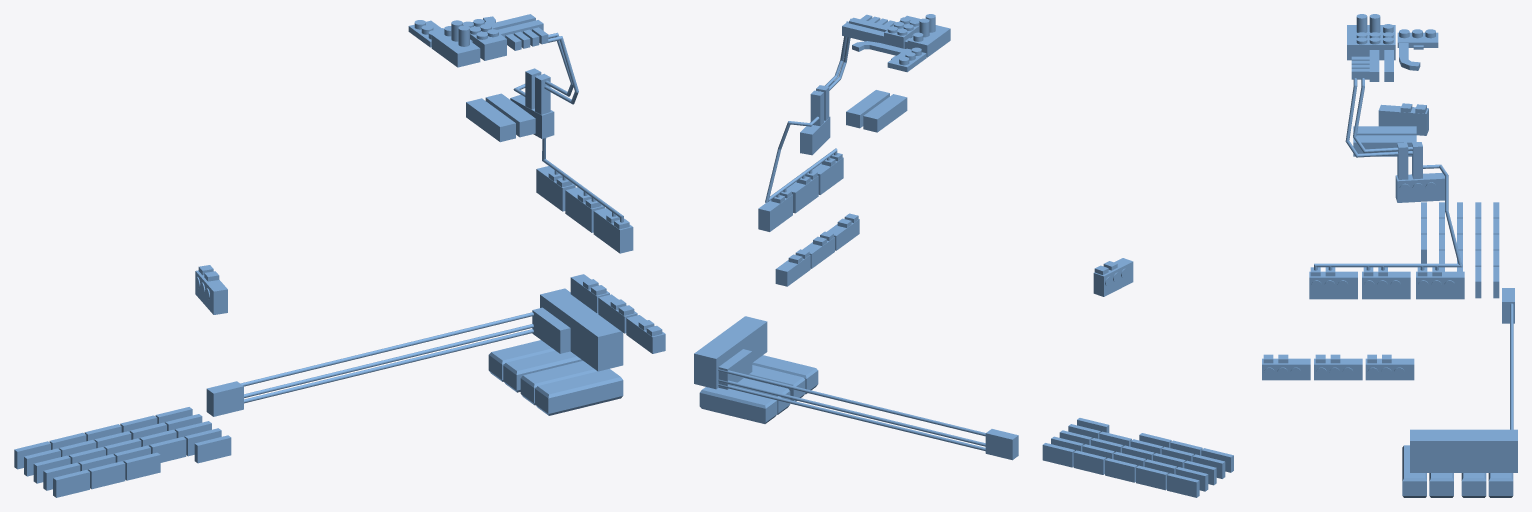
Rendered from 260303_3dmod_exploded-machinary.glb.
3 views of the same model, side by side, from view 1: azimuth 30°, elevation 25°; view 2: azimuth 150°, elevation 25°; view 3: azimuth 270°, elevation 25° (orthographic). The views are drawn at different scales.
Visible parts, largest first — view 1: 04_machinery.001, 04_machinery.002, 04_machinery, 04_machinery.003; view 2: 04_machinery.001, 04_machinery.002, 04_machinery, 04_machinery.003; view 3: 04_machinery.002, 04_machinery.001, 04_machinery, 04_machinery.003.
Boxes of the visible parts, box(x1,y1,x2,y2) form: 04_machinery.001: box(14, 288, 623, 497); 04_machinery.002: box(408, 14, 665, 353); 04_machinery: box(466, 93, 535, 142); 04_machinery.003: box(195, 265, 227, 314); 04_machinery.001: box(694, 316, 1233, 497); 04_machinery.002: box(758, 14, 950, 286); 04_machinery: box(846, 90, 907, 132); 04_machinery.003: box(1093, 258, 1133, 296); 04_machinery.002: box(1262, 14, 1464, 380); 04_machinery.001: box(1402, 202, 1517, 497); 04_machinery: box(1353, 126, 1416, 156); 04_machinery.003: box(1378, 103, 1428, 135).
Bounding box in the file's own units: 9.98 × 7.33 × 4.25.
